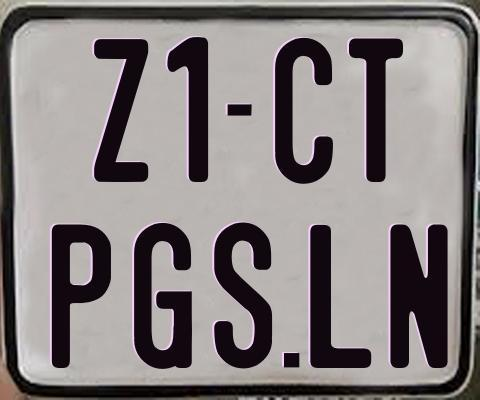1: (167, 34, 208, 181)
C: (273, 36, 331, 182)
G: (133, 222, 193, 369)
L: (310, 223, 375, 369)
N: (390, 223, 448, 372)
P: (52, 221, 117, 368)
S: (212, 220, 270, 368)
T: (349, 36, 404, 182)
Z: (93, 37, 153, 182)
